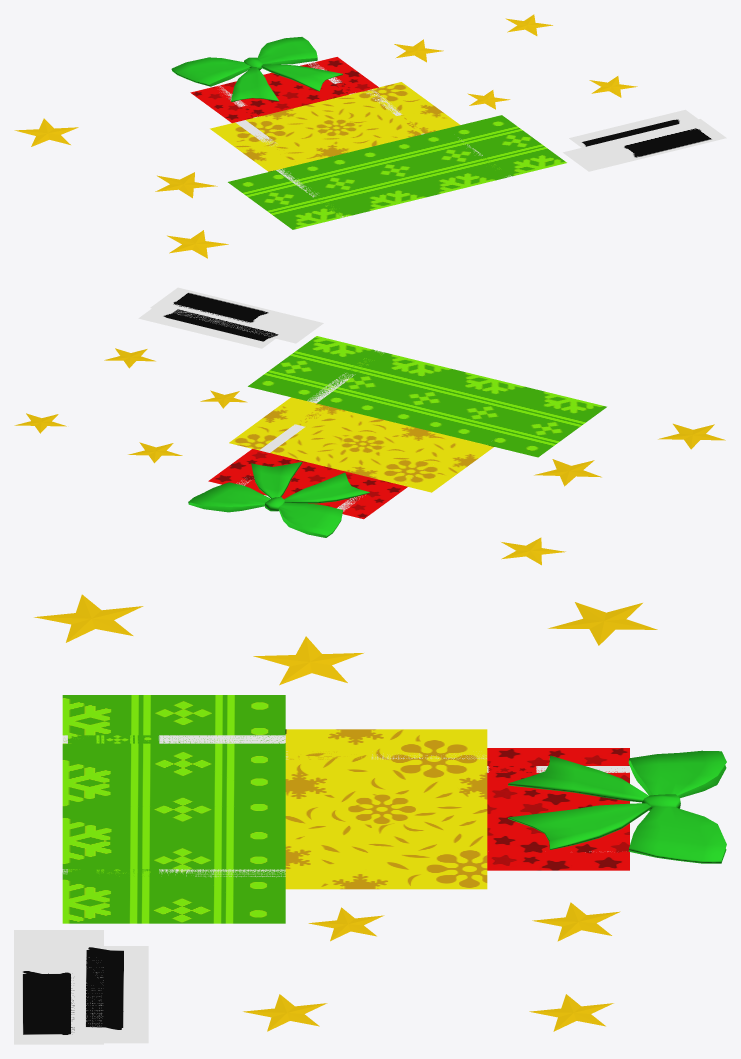
The model's file is Elements.fbx.
3 views of the same model, one above another, from view 1: azimuth 30°, elevation 25°; view 2: azimuth 150°, elevation 25°; view 3: azimuth 270°, elevation 25° (orthographic). The views are drawn at different scales.
Parts seen in each view (by area): view 1: Gift_Bottom, Gift_Mid, Ribbons, Gift_Top, Text1, Text, Star5, Star3, Star4, Star2, Star1; view 2: Gift_Bottom, Gift_Mid, Ribbons, Gift_Top, Text1, Text, Star4, Star5, Star3, Strip_04, Strip_05; view 3: Gift_Bottom, Gift_Mid, Ribbons, Gift_Top, Text, Text1, Strip_06, Star4, Star3, Star5, Star2, Star1 (+3 smaller).
Part boxes in pixels (bbox=[...]): Gift_Bottom: bbox=[228, 115, 566, 229]; Gift_Mid: bbox=[210, 82, 460, 171]; Ribbons: bbox=[171, 37, 342, 101]; Gift_Top: bbox=[190, 57, 378, 122]; Text1: bbox=[563, 119, 726, 171]; Text: bbox=[569, 109, 707, 147]; Star5: bbox=[14, 118, 78, 146]; Star3: bbox=[167, 230, 228, 258]; Star4: bbox=[155, 172, 217, 198]; Star2: bbox=[394, 39, 443, 62]; Star1: bbox=[589, 76, 637, 97]; Gift_Bottom: bbox=[248, 336, 606, 457]; Gift_Mid: bbox=[229, 397, 493, 492]; Ribbons: bbox=[188, 462, 369, 537]; Gift_Top: bbox=[208, 449, 407, 519]; Text1: bbox=[150, 287, 323, 343]; Text: bbox=[138, 301, 285, 348]; Star4: bbox=[534, 459, 601, 486]; Star5: bbox=[501, 537, 565, 565]; Star3: bbox=[658, 423, 725, 449]; Strip_04: bbox=[259, 407, 328, 452]; Strip_05: bbox=[307, 350, 383, 403]; Gift_Bottom: bbox=[62, 695, 285, 923]; Gift_Mid: bbox=[285, 729, 487, 889]; Ribbons: bbox=[508, 750, 726, 863]; Gift_Top: bbox=[487, 748, 629, 870]; Text: bbox=[71, 946, 148, 1043]; Text1: bbox=[14, 930, 103, 1044]; Strip_06: bbox=[62, 735, 285, 743]; Star4: bbox=[253, 636, 363, 685]; Star3: bbox=[34, 594, 143, 642]; Star5: bbox=[548, 602, 657, 645]; Star2: bbox=[532, 902, 620, 941]; Star1: bbox=[243, 994, 327, 1031].
Bounding box in the file's own units: 10.69 × 0.148 × 7.19.
7 materials, 5 textured.
